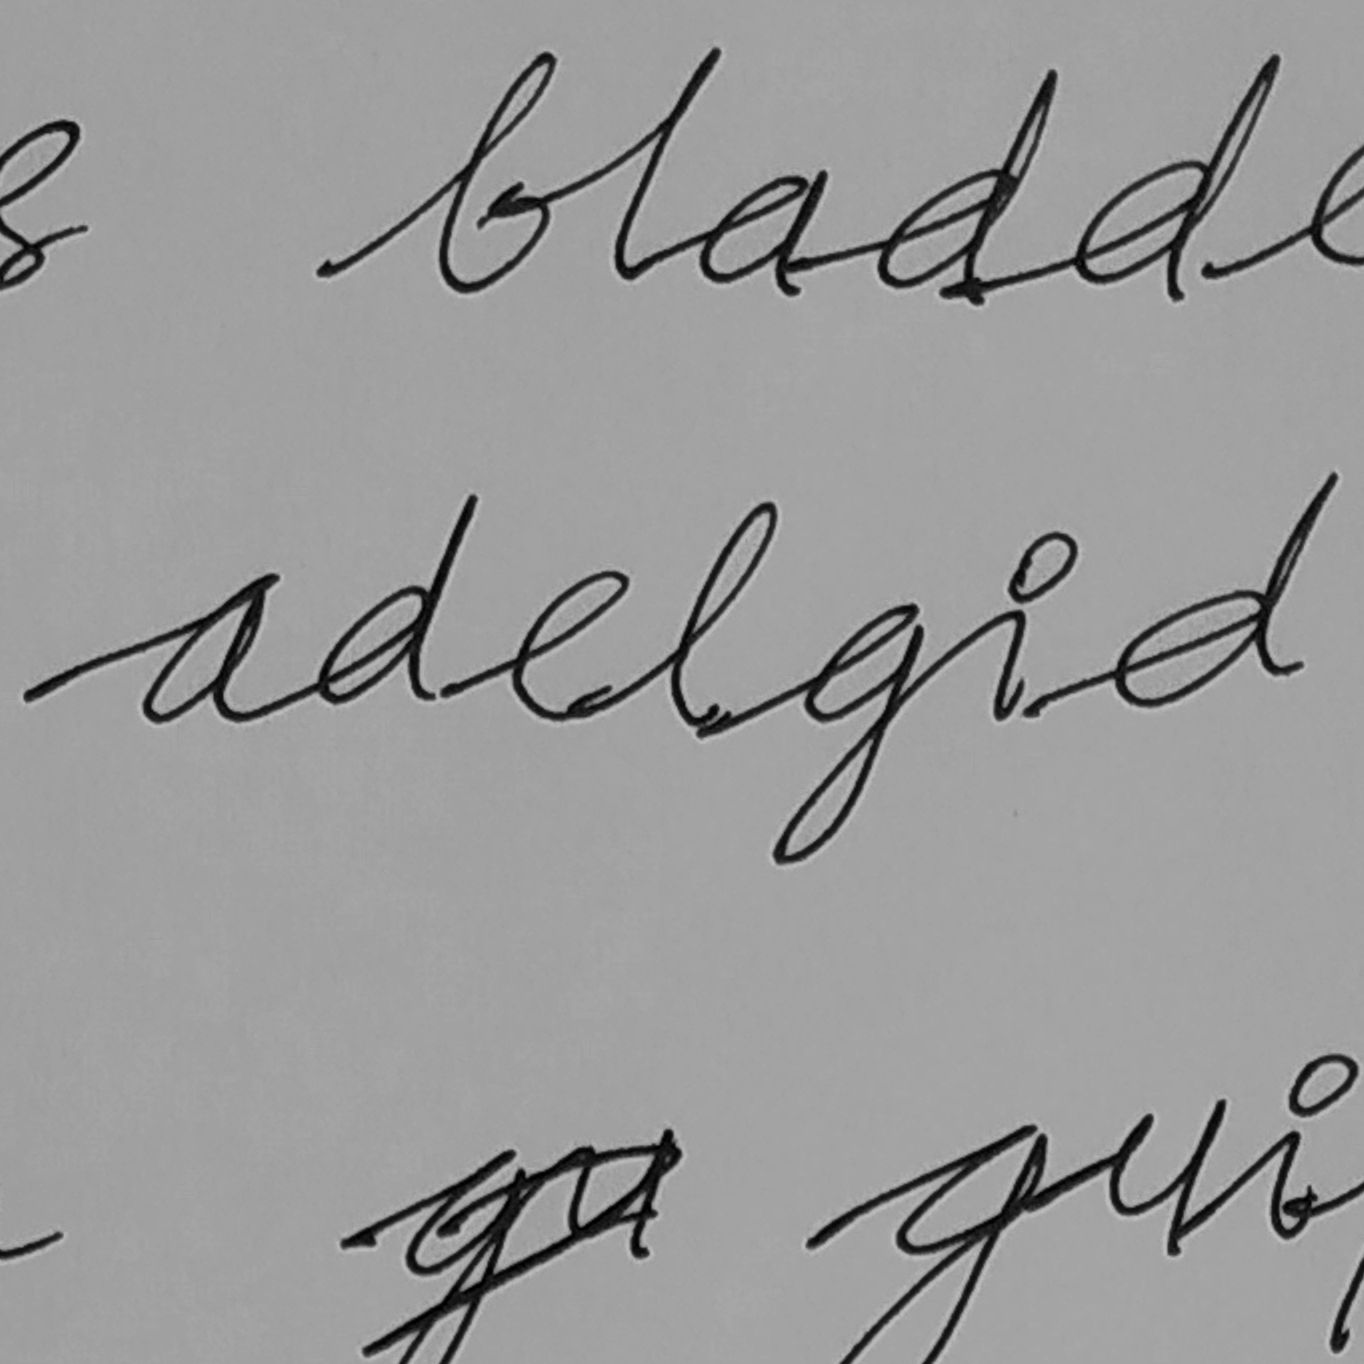a: (127, 566, 285, 729)
d: (1108, 467, 1345, 714), (312, 488, 481, 713)
e: (505, 565, 635, 724)
g: (764, 598, 929, 871)
i: (982, 525, 1082, 729)
l: (660, 493, 781, 741)
